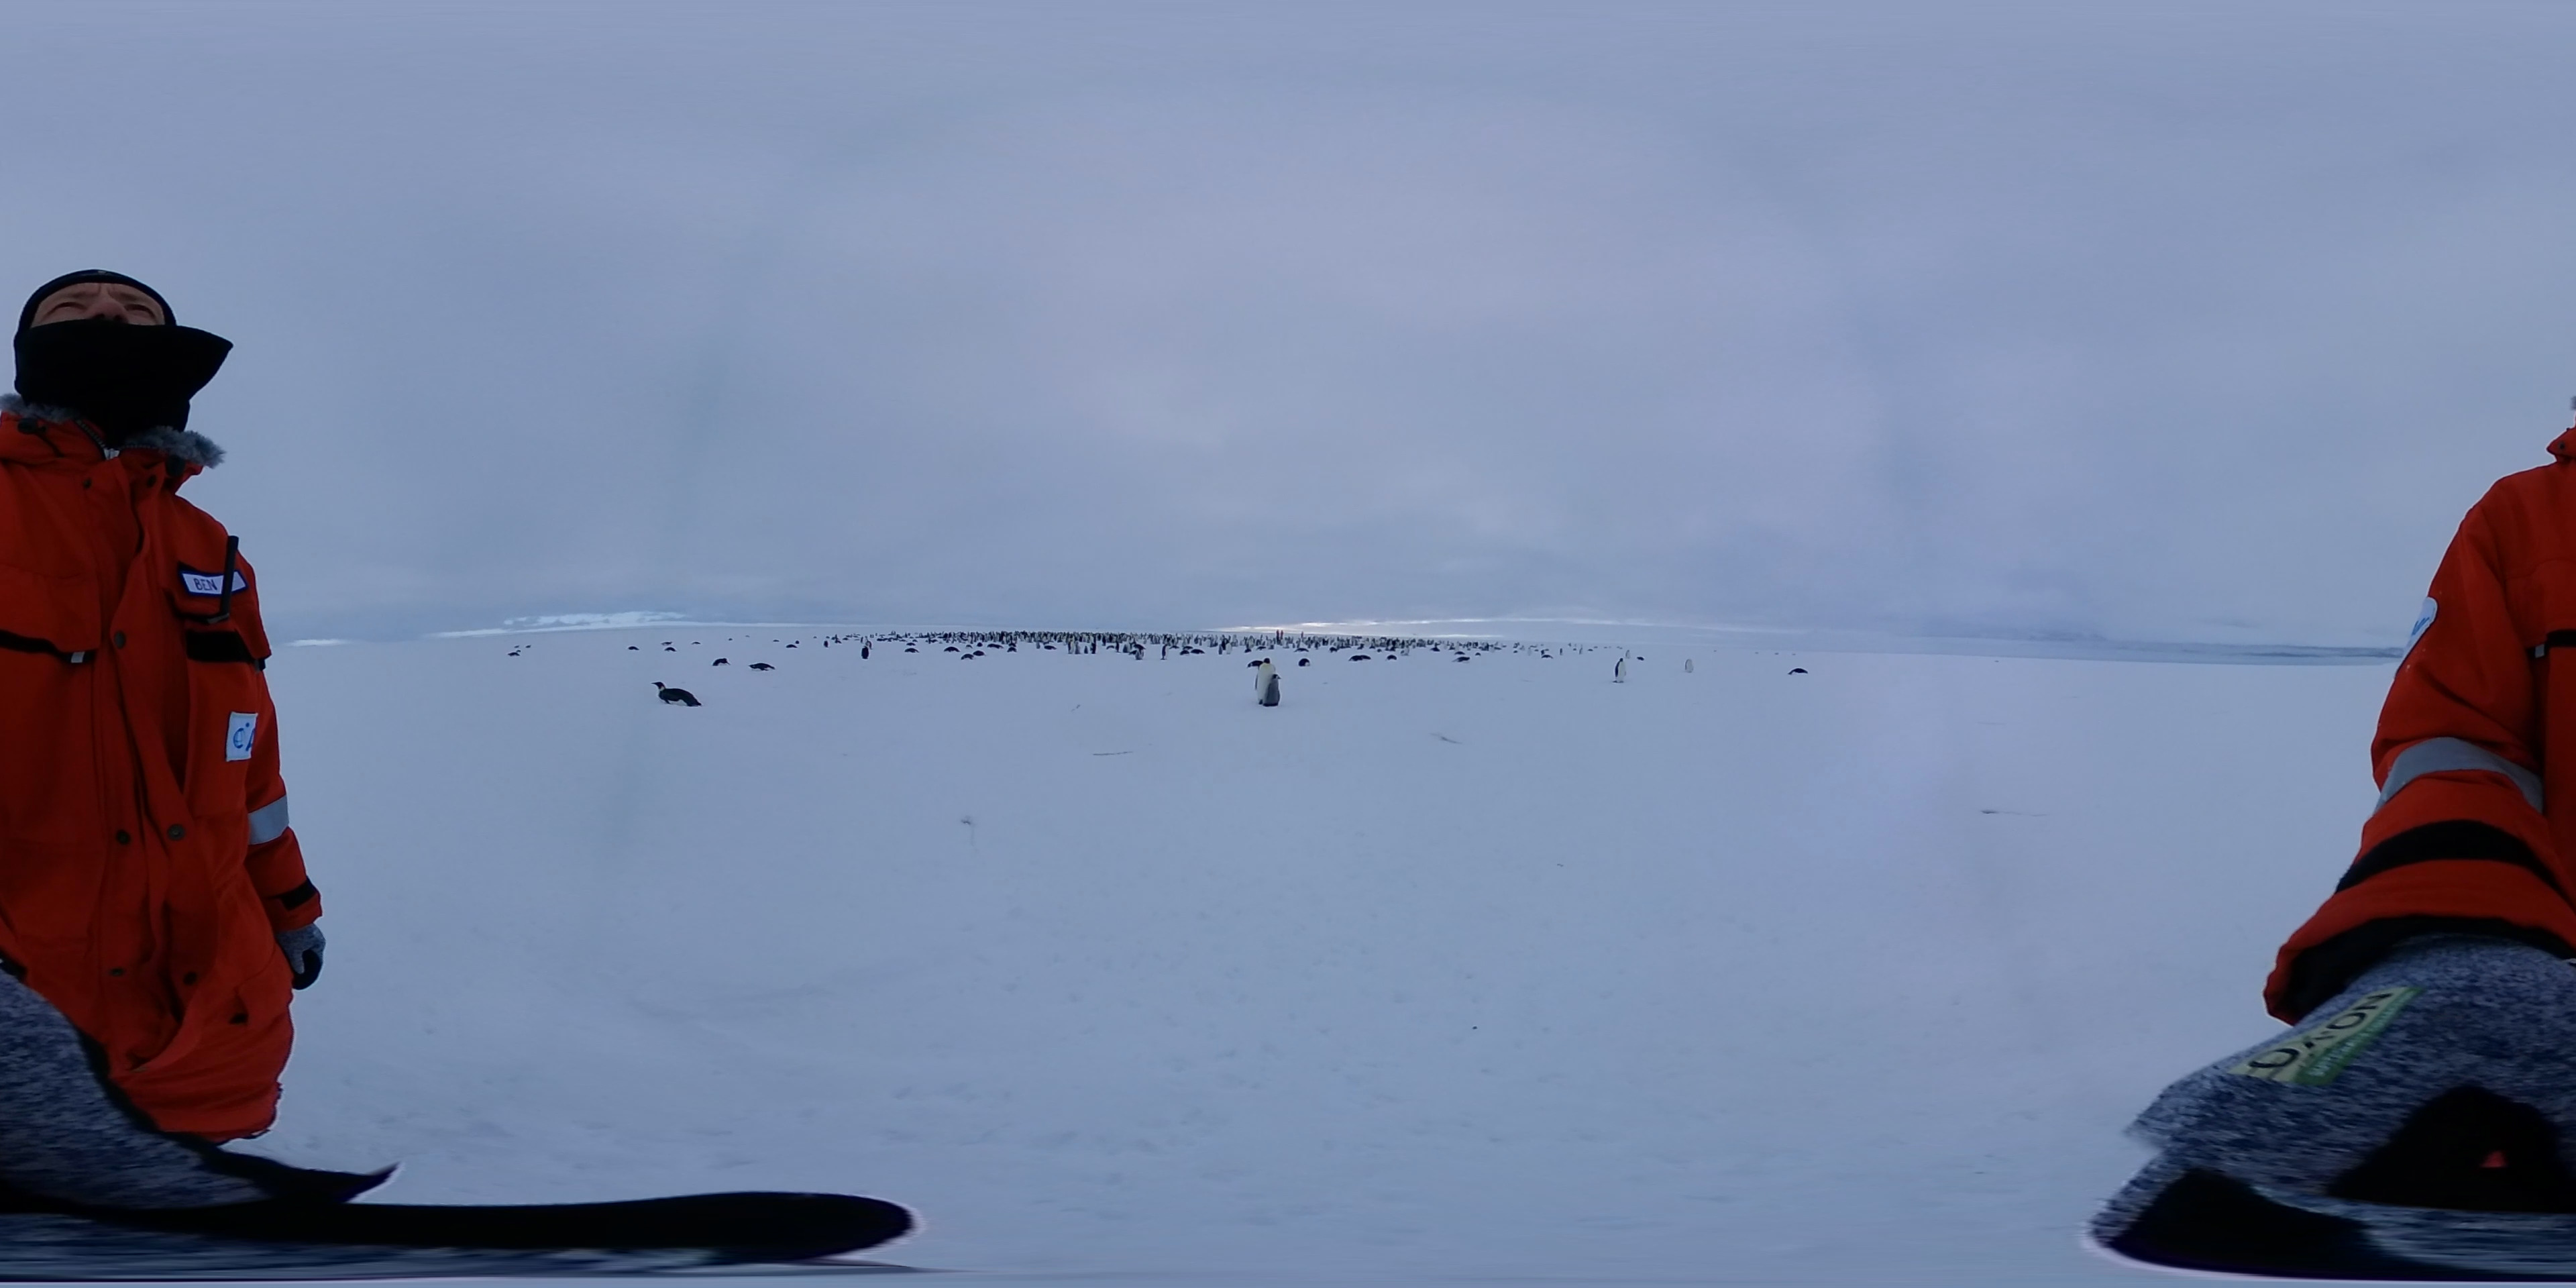adult_standing_penguin: (1255, 657, 1281, 705), (1612, 657, 1626, 683), (1686, 657, 1694, 674)
adult_toboggan_penguin: (651, 678, 703, 706), (747, 659, 775, 670), (1786, 667, 1810, 677), (713, 659, 734, 665)
juvenile_penguin: (1265, 670, 1283, 710)
researcher: (0, 250, 337, 1147), (2293, 381, 2576, 1184)
